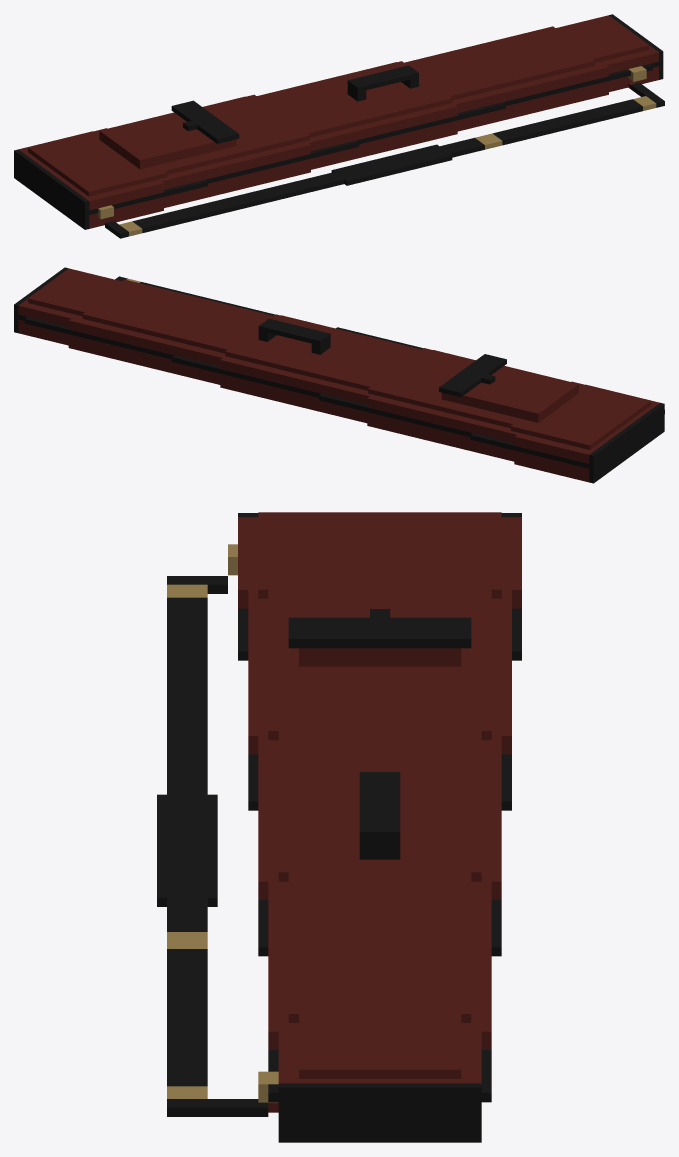
The model's file is rifle_case_xl_soft_leather.glb.
3 views of the same model, one above another, from view 1: azimuth 30°, elevation 25°; view 2: azimuth 150°, elevation 25°; view 3: azimuth 270°, elevation 25° (orthographic). The views are drawn at different scales.
Parts seen in each view (by area): view 1: rifle_case_xl_soft_leather:compound; view 2: rifle_case_xl_soft_leather:compound; view 3: rifle_case_xl_soft_leather:compound.
Part boxes in pixels (x1=…): rifle_case_xl_soft_leather:compound: x1=14, y1=14, x2=664, y2=238; rifle_case_xl_soft_leather:compound: x1=14, y1=267, x2=664, y2=483; rifle_case_xl_soft_leather:compound: x1=157, y1=512, x2=521, y2=1142.
Bounding box in the file's own units: 1.34 × 0.1 × 0.36.
